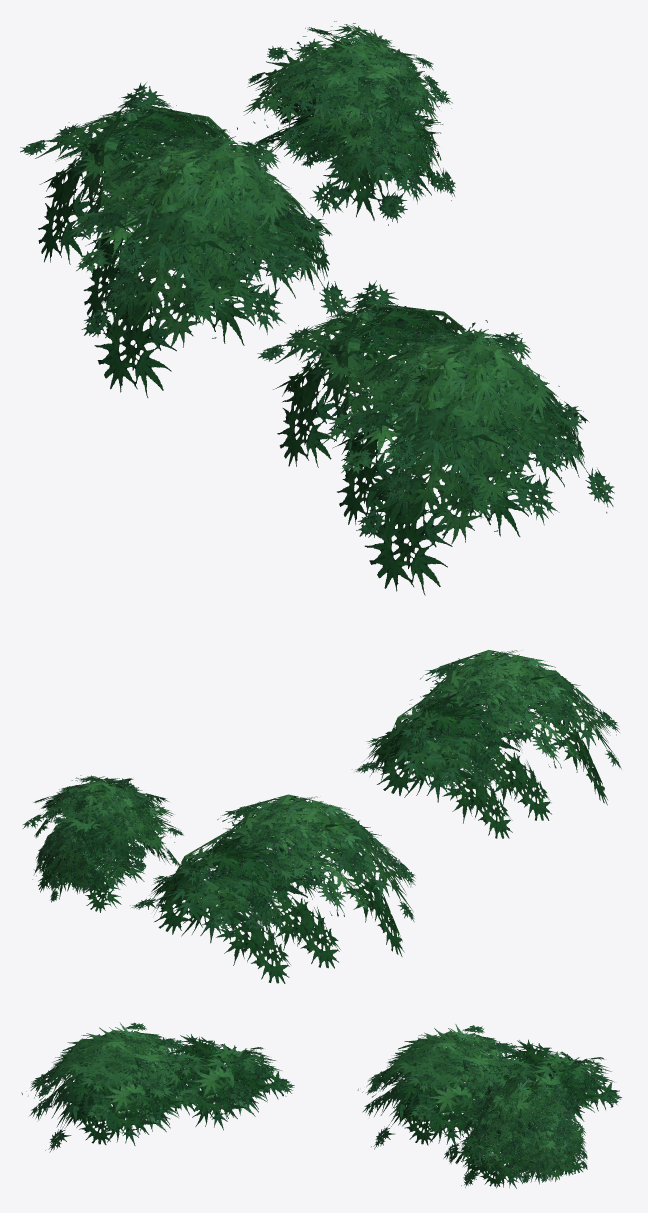
File: Area_13_49.fbx
3 views of the same model, one above another, from view 1: azimuth 30°, elevation 25°; view 2: azimuth 150°, elevation 25°; view 3: azimuth 270°, elevation 25° (orthographic). The views are drawn at different scales.
Parts seen in each view (by area): view 1: Area_13_49; view 2: Area_13_49; view 3: Area_13_49.
Boxes of the visible parts, box(x1,y1,x2,y2) form: Area_13_49: box(20, 21, 614, 595); Area_13_49: box(23, 650, 621, 983); Area_13_49: box(21, 1022, 621, 1188).
Bounding box in the file's own units: 840 × 448 × 1606.
